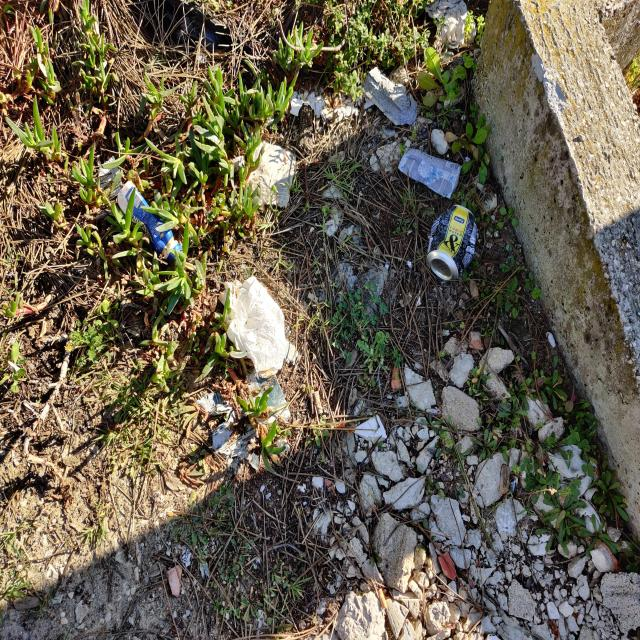litter: (116, 178, 186, 265), (427, 205, 477, 282), (246, 138, 298, 210), (396, 145, 463, 200), (424, 1, 478, 51), (96, 154, 123, 201), (423, 260, 446, 282), (227, 155, 244, 175)
